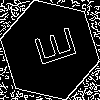E: (25, 25, 78, 71)
